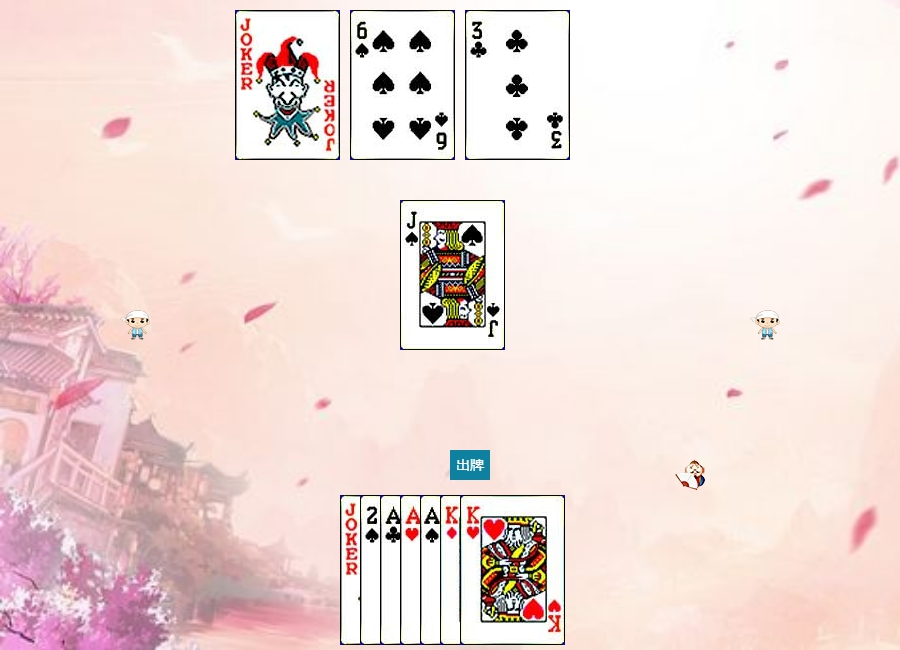11~4: (400, 200, 505, 350)
13~1: (440, 495, 545, 645)
13~3: (460, 495, 565, 645)
14~2: (380, 495, 485, 645)
14~3: (400, 495, 505, 645)
14~4: (420, 495, 525, 645)
15~4: (360, 495, 465, 645)
18~4: (235, 10, 340, 160), (340, 495, 445, 645)
3~2: (465, 10, 570, 160)
6~4: (350, 10, 455, 160)
